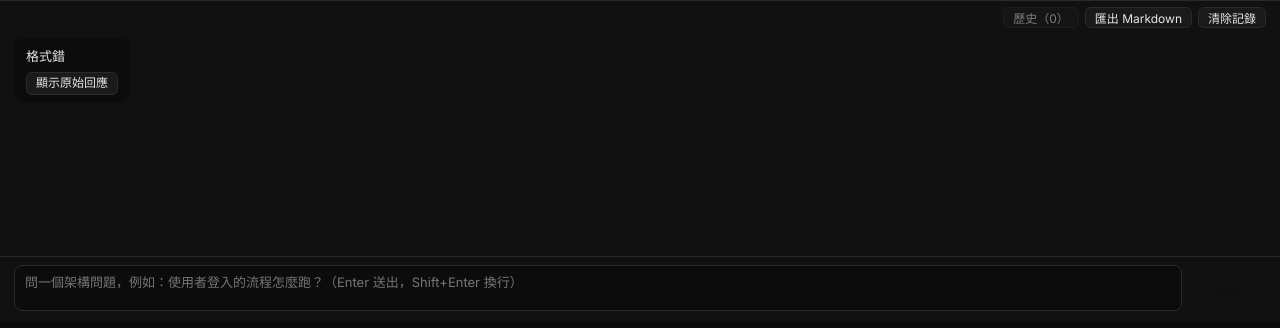
Test case: QaPanel › 錯誤泡泡有 raw 才出現「顯示原始回應」，點開可見原文，再點收起
Click the button "顯示原始回應" at (72, 83), box [26,72,118,95]
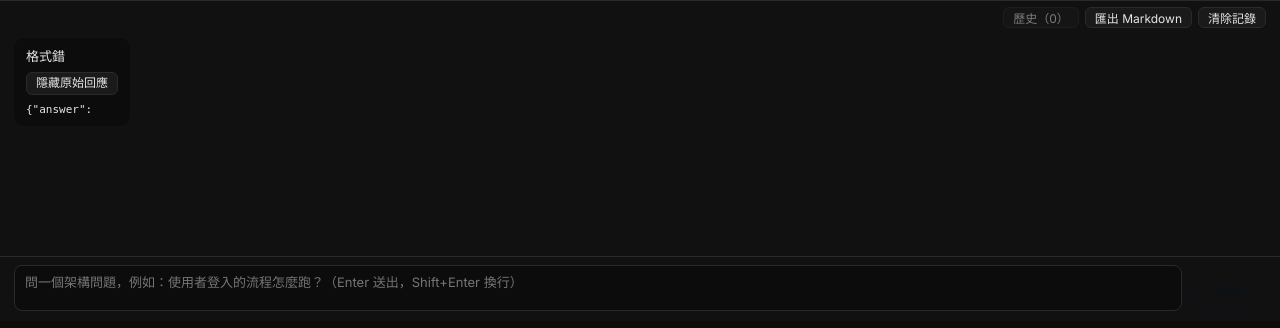
Expected: the text with test id "qa-raw" reads "{\"answer\":", [26,103,99,116]
Click the button "隱藏原始回應" at (72, 83), box [26,72,118,95]
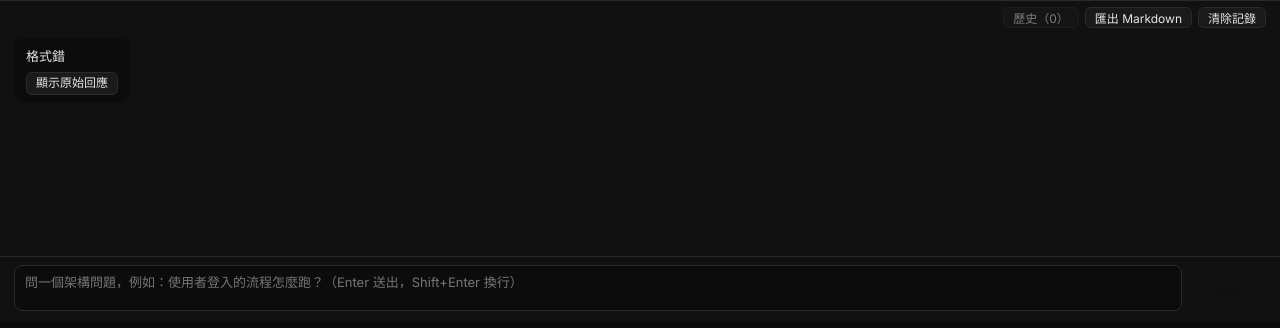
Expected: the text with test id "qa-raw" is gone
